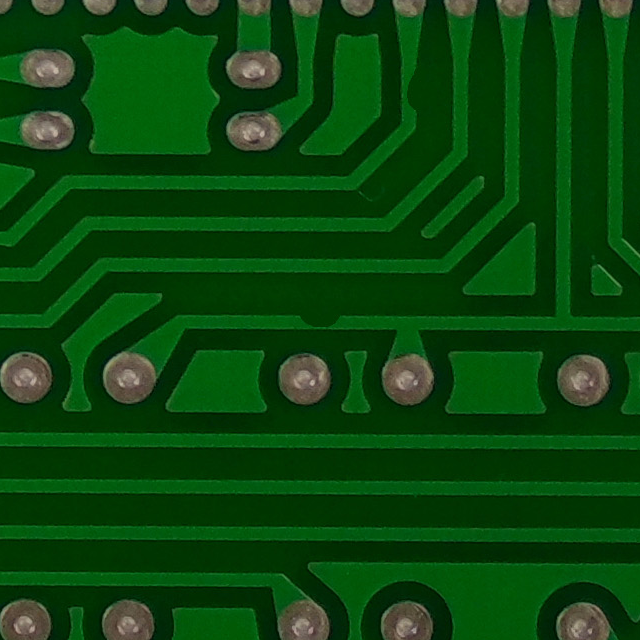mouse_bite: (282, 297, 359, 344), (391, 57, 435, 128)
